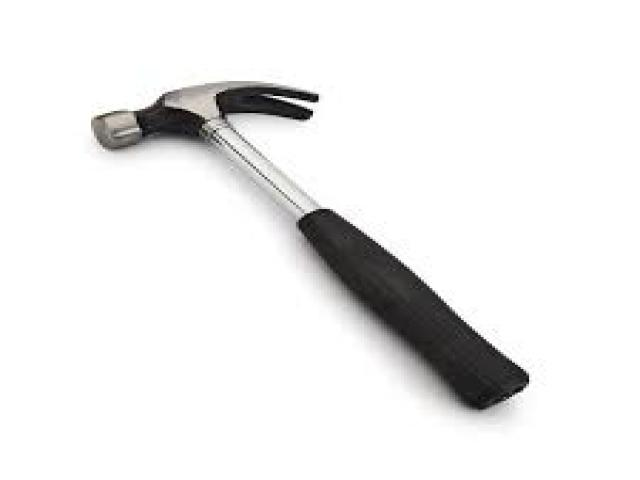Hammer: (92, 82, 524, 408)
